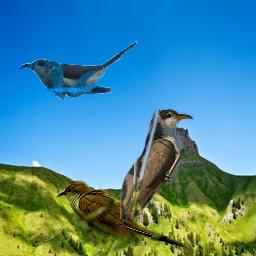Cuckoo: (120, 109, 211, 223), (56, 180, 190, 250), (20, 40, 141, 100)
